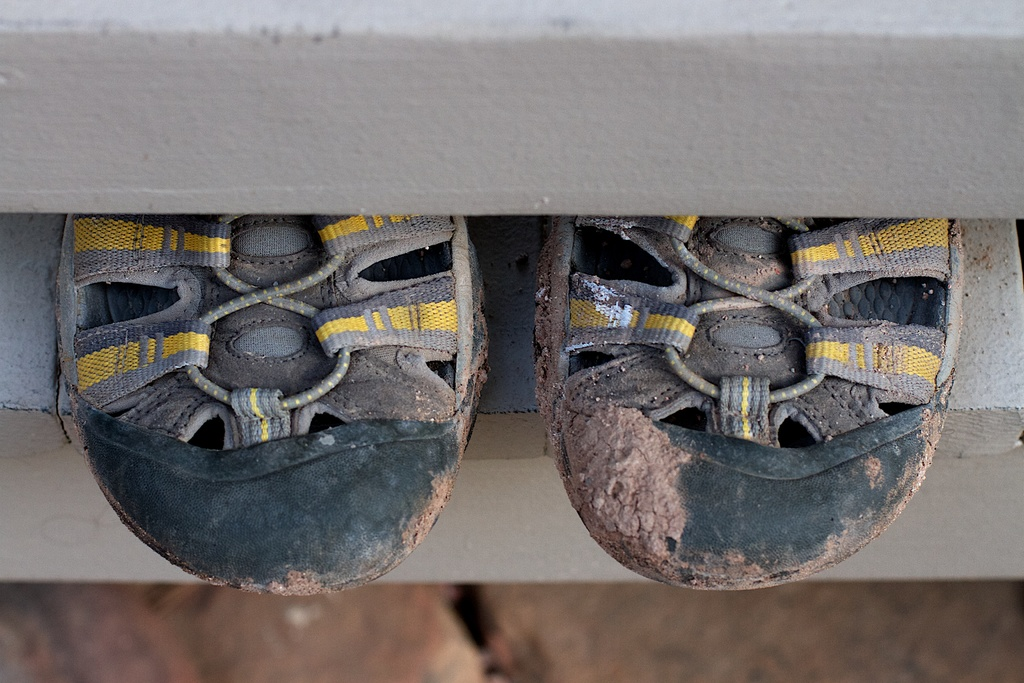Footwear: (534, 214, 970, 595), (49, 213, 486, 592)
